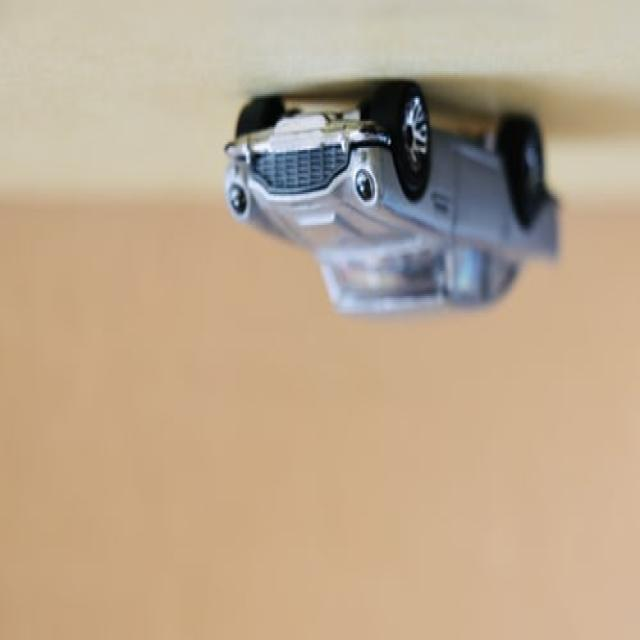Car: (222, 81, 560, 319)
